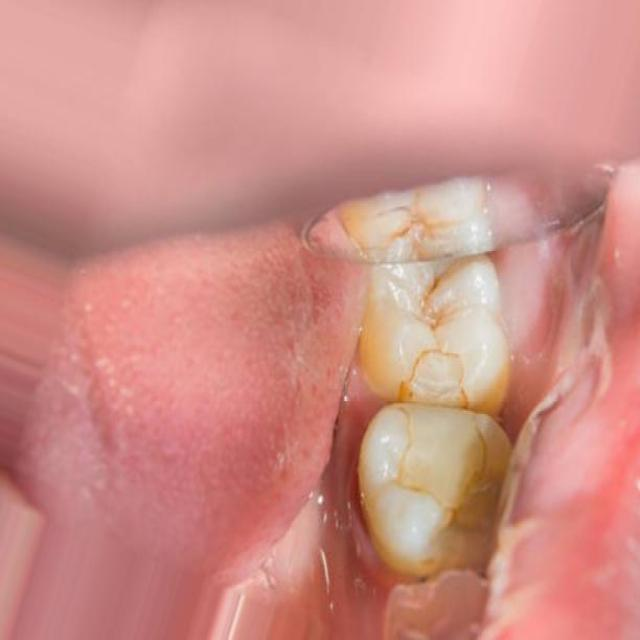caries: (373, 346, 497, 515)
